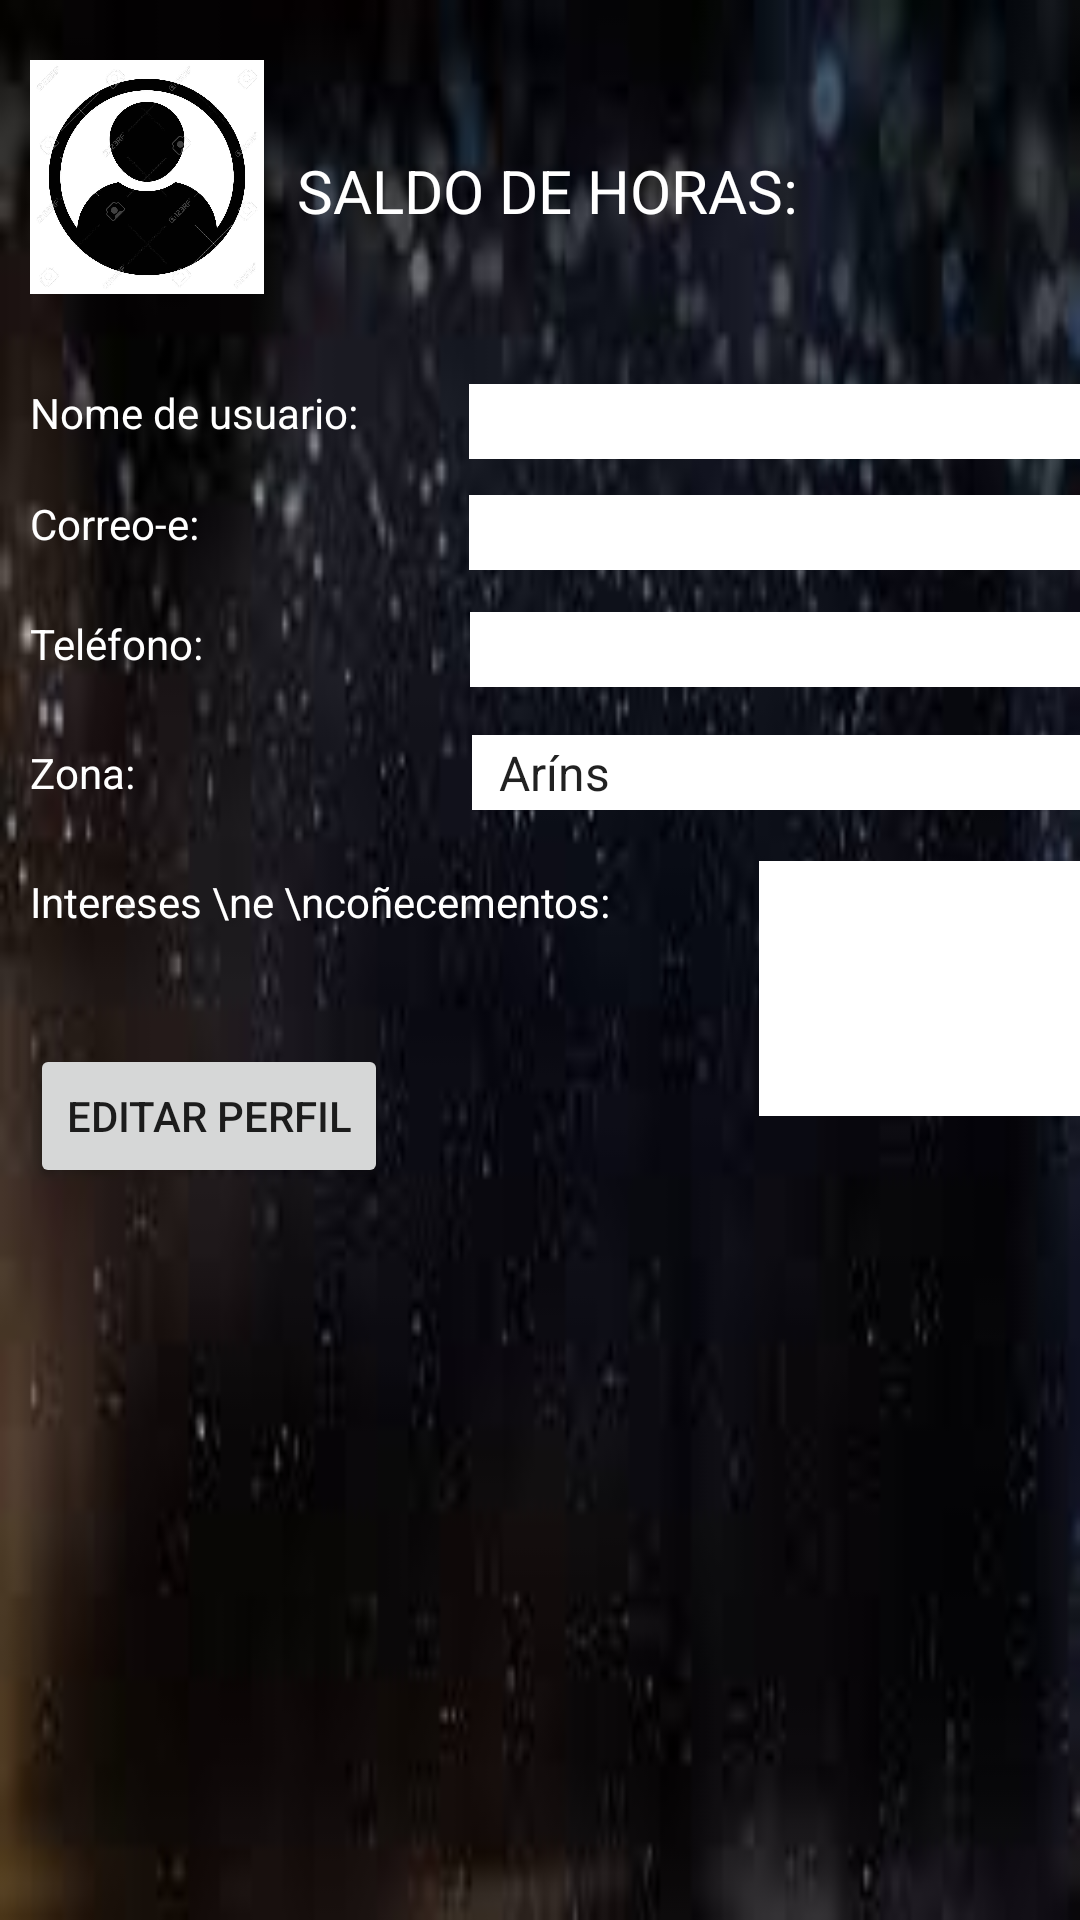

Screen size 1080px×1920px. Icon name, then its center in pixels as [x,y]:
sin foto: [147,192]
